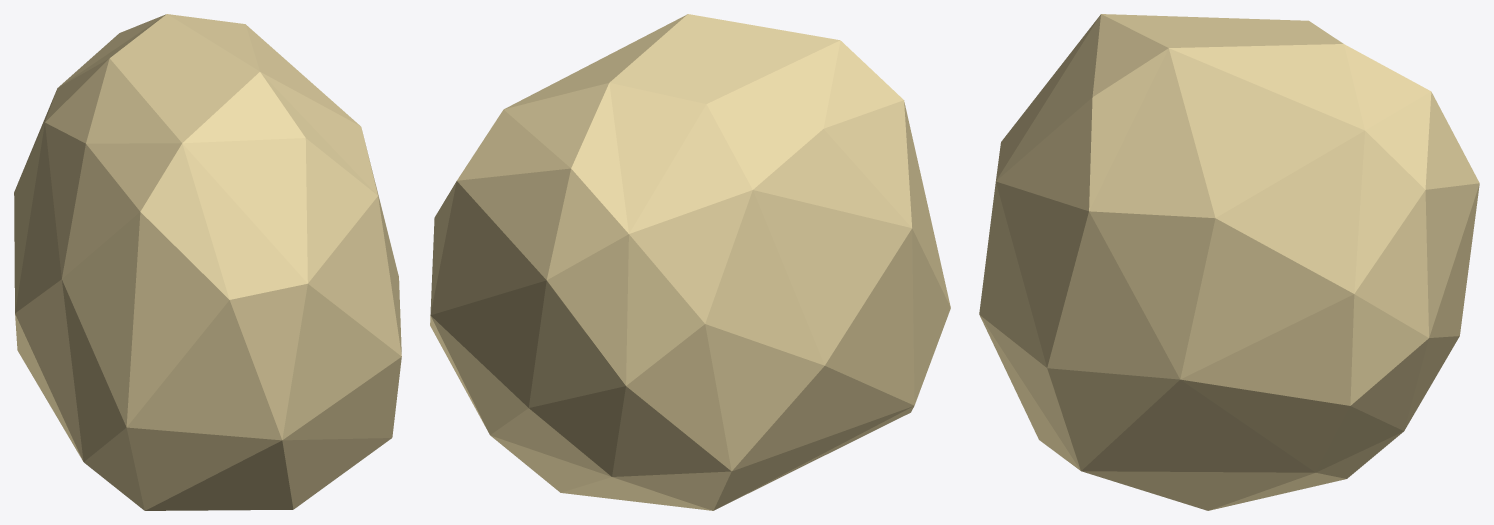
Rendered from Rock (70).fbx.
3 renders of one model, left to right at view 1: azimuth 30°, elevation 25°; view 2: azimuth 150°, elevation 25°; view 3: azimuth 270°, elevation 25°, orthographic. The views are drawn at different scales.
Parts seen in each view (by area): view 1: Asteroid69; view 2: Asteroid69; view 3: Asteroid69.
Boxes of the visible parts, x1=… form: Asteroid69: x1=14, y1=14, x2=401, y2=510; Asteroid69: x1=430, y1=14, x2=950, y2=510; Asteroid69: x1=979, y1=14, x2=1479, y2=510.
Bounding box in the file's own units: 53.79 × 62.03 × 61.94.
